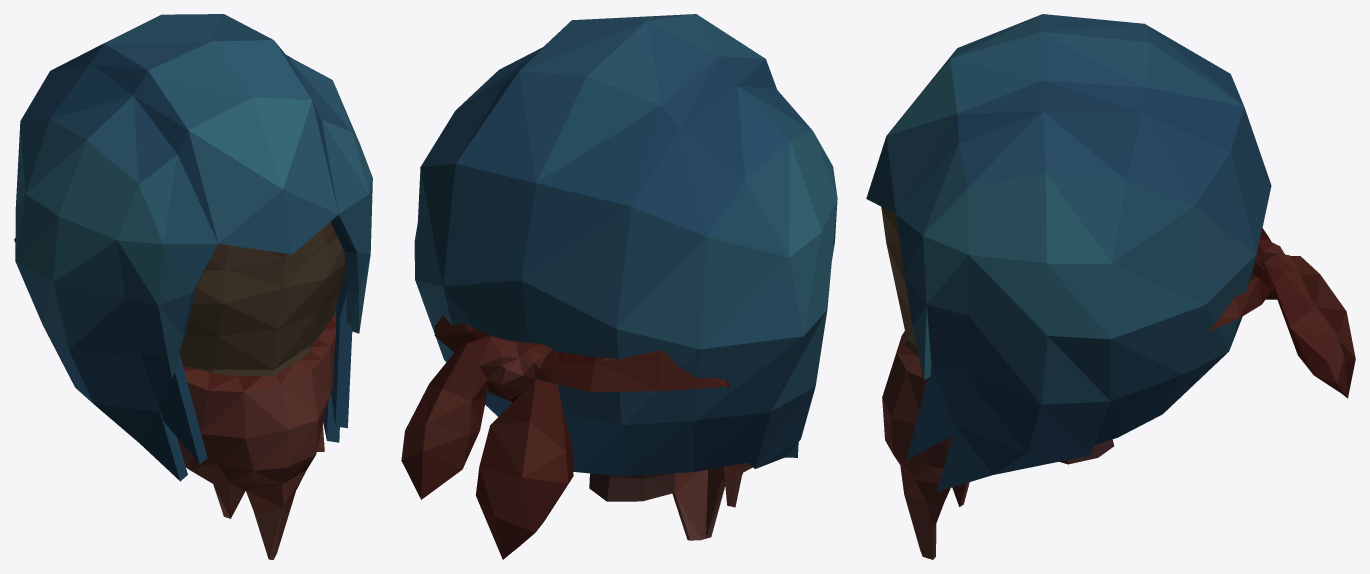
The model's file is helm_darkskin_bob_blue_bandana.fbx.
3 renders of one model, left to right at view 1: azimuth 30°, elevation 25°; view 2: azimuth 150°, elevation 25°; view 3: azimuth 270°, elevation 25°, orthographic. The views are drawn at different scales.
Parts seen in each view (by area): view 1: helm_darkskin_bob_blue_bandana; view 2: helm_darkskin_bob_blue_bandana; view 3: helm_darkskin_bob_blue_bandana.
Boxes of the visible parts, x1,y1,x2,y2 form: helm_darkskin_bob_blue_bandana: (14,14,372,559); helm_darkskin_bob_blue_bandana: (401,14,837,559); helm_darkskin_bob_blue_bandana: (866,14,1355,559).
Size of the model in its own units: 1.18 by 1.65 by 1.4.
